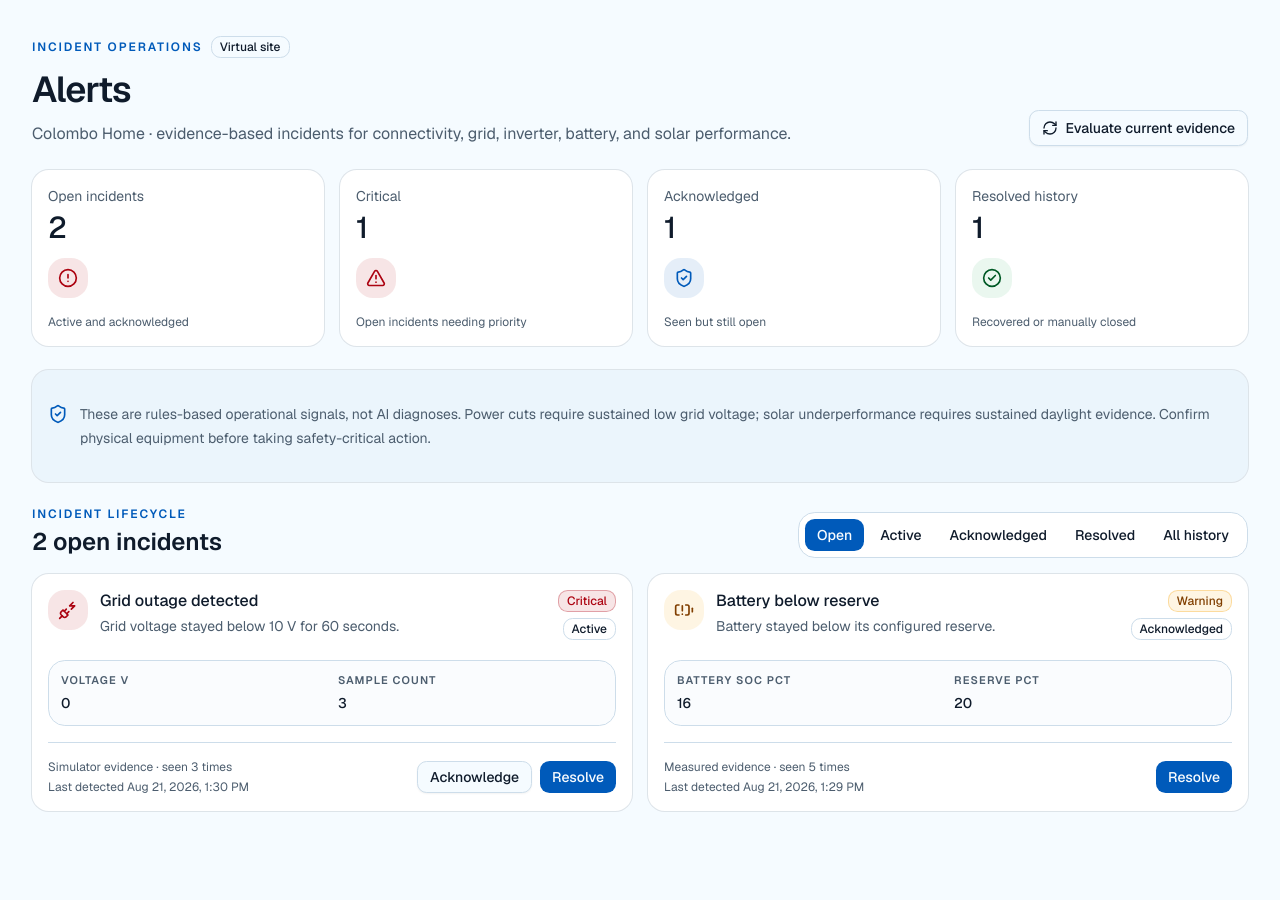
Test: AlertsDashboard › re-evaluates current evidence and replaces the incident view
Click the button "Evaluate current evidence": (1138, 128) [1028,110,1248,146]
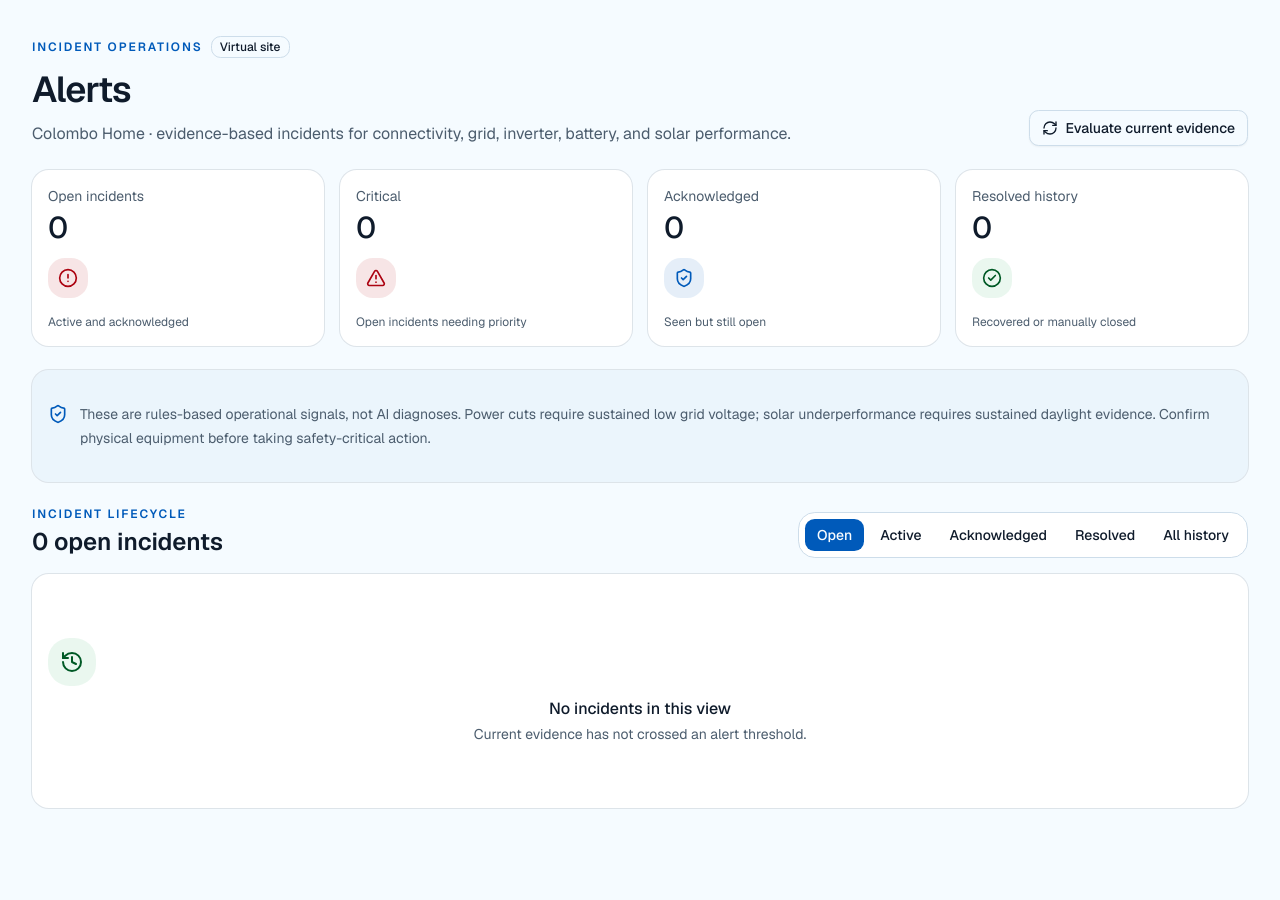
Result: the text "No incidents in this view" is shown at [549,698,731,719]
